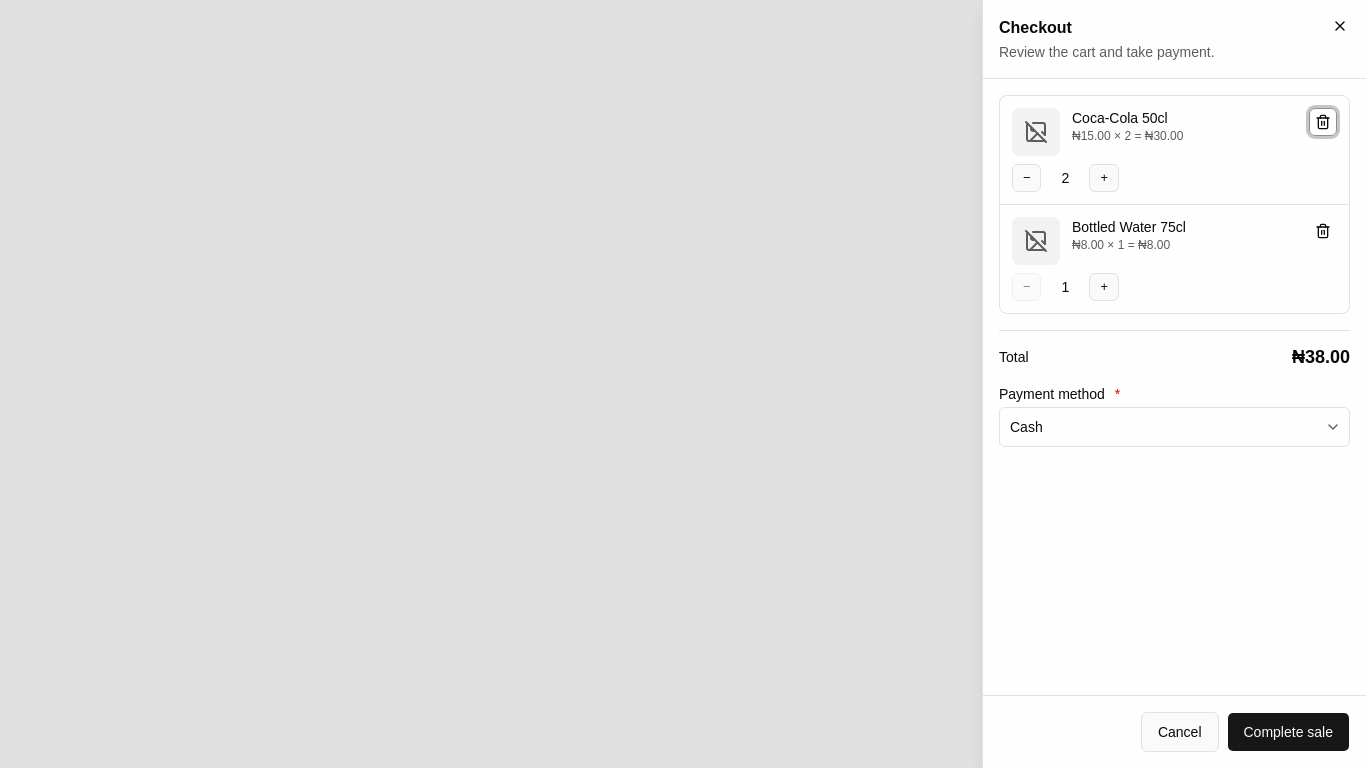
Test: CheckoutDrawer › flags an item that became inactive during checkout
expect the dropdown named "Payment method" is enabled: met, box [999,407,1350,447]
Click the button "Complete sale".
click(1288, 732)  # box [1226,712,1350,752]
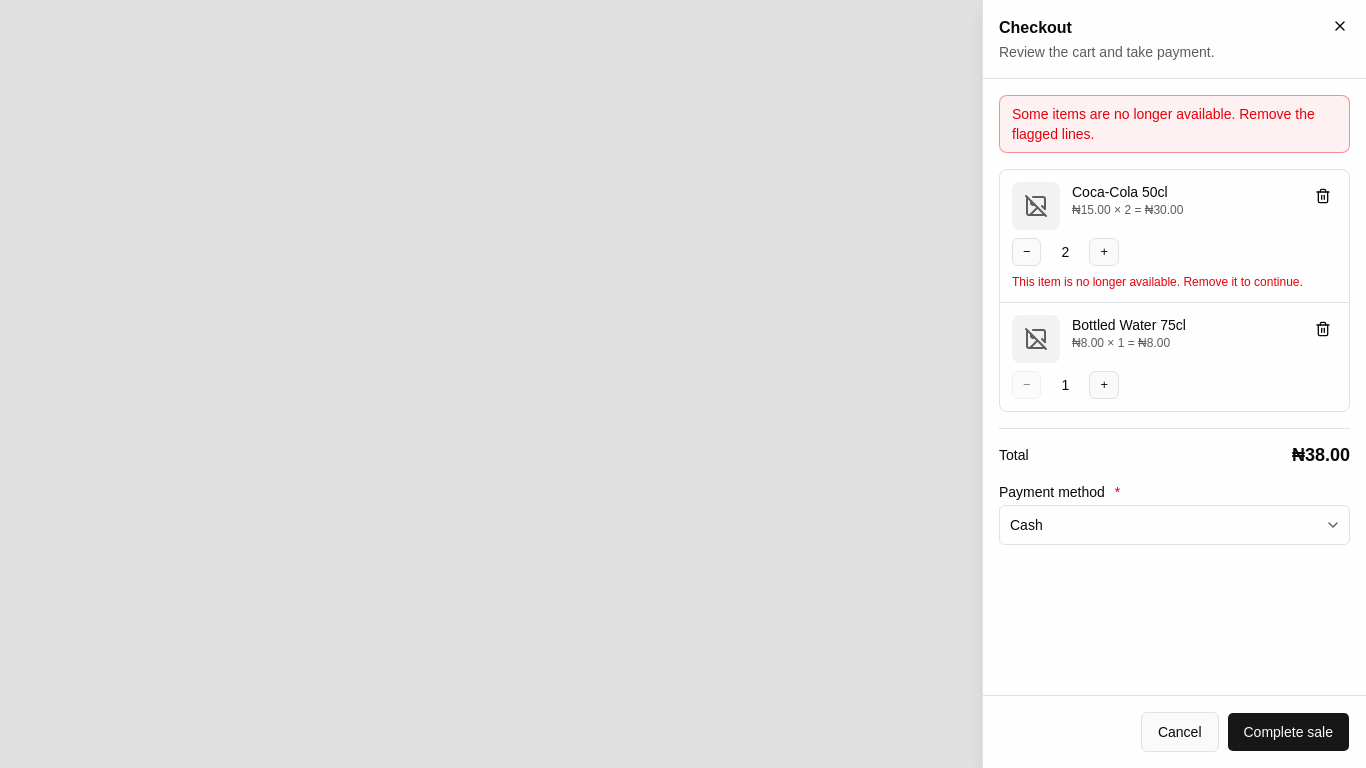
expect the text "This item is no longer available. Remove it to continue." is shown: met, box [1012,274,1337,290]
